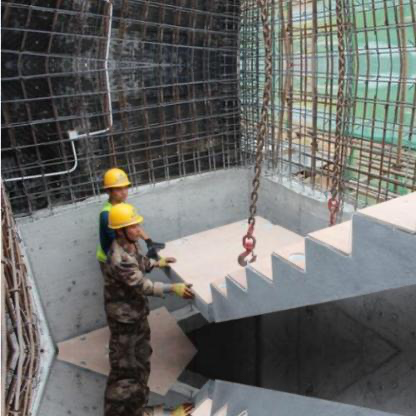helmet: (107, 198, 148, 246), (99, 163, 133, 203)
